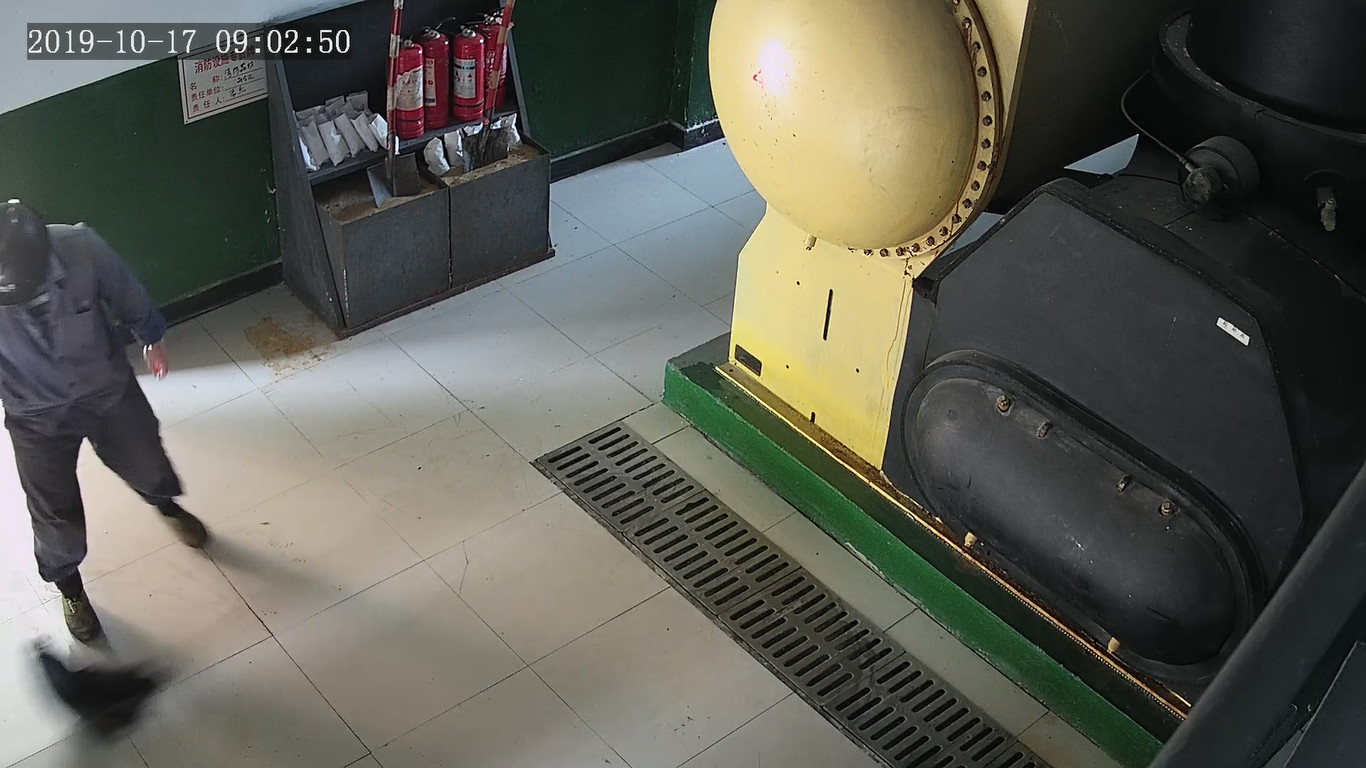helmet: (0, 200, 49, 305)
